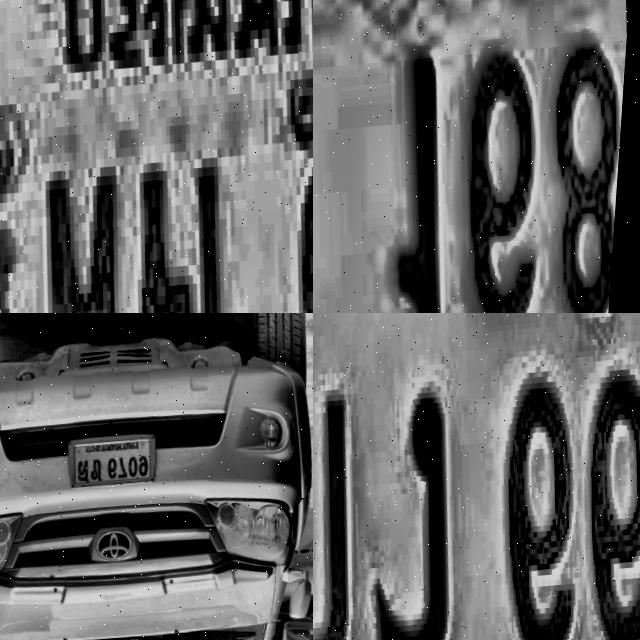license-plate: (313, 313, 640, 640), (313, 0, 640, 313), (0, 0, 313, 313), (68, 428, 163, 486)
